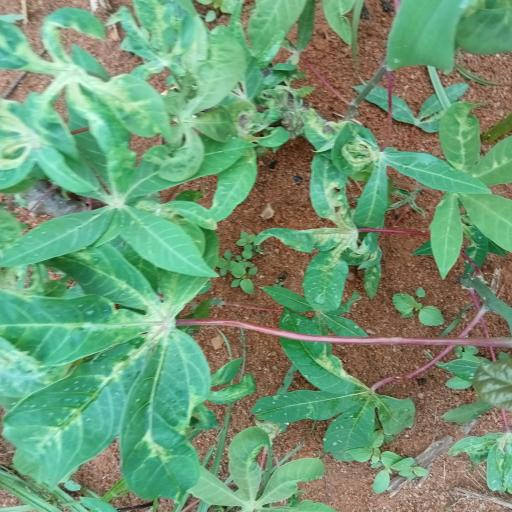Cassava_Mosaic: (4, 240, 234, 510), (13, 95, 219, 279), (269, 117, 396, 311), (425, 98, 512, 268)
